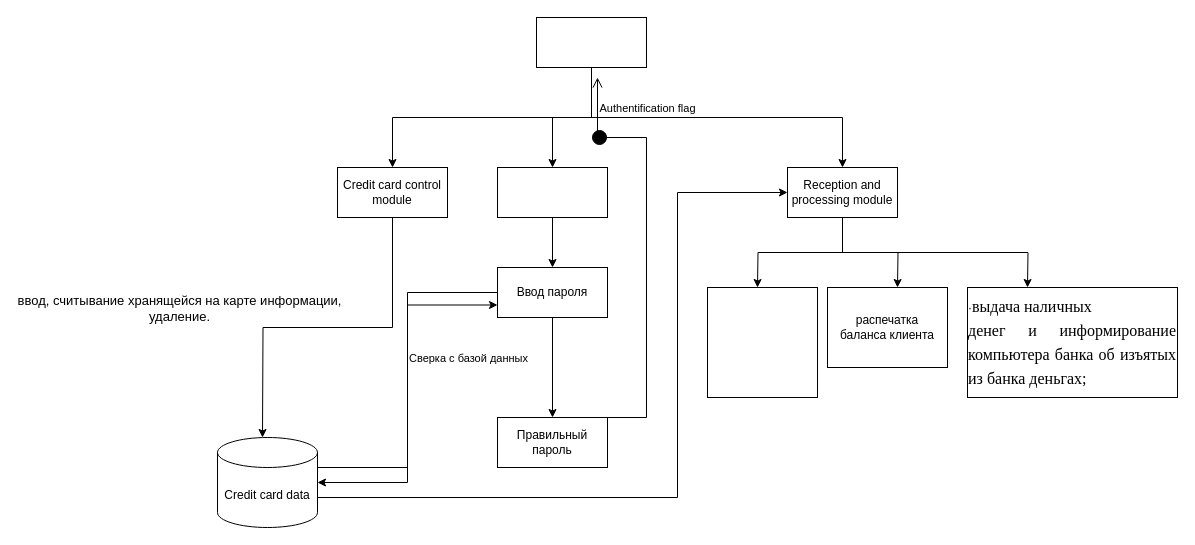
Image size: 1195x545. Some labels were removed from this diagram. The centre of each missing label's shape, as x and y in pixels:
"Authentification module" goes at pixel 552 192.
"Main module" goes at pixel 591 42.
"обработка внутренней банковской документации по клиенту" goes at pixel 762 342.
